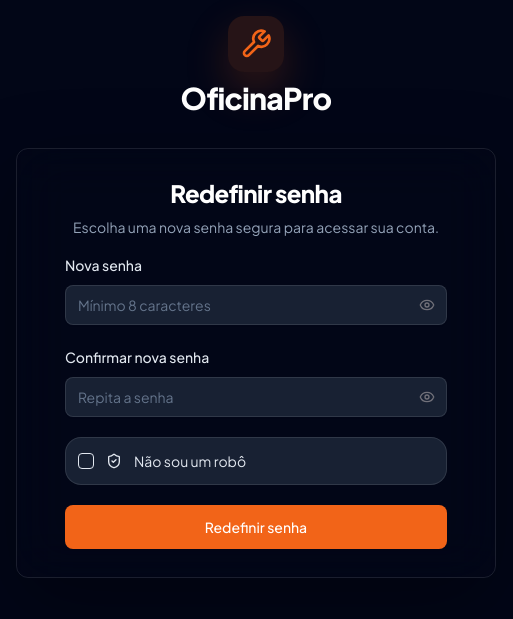
Test case: ResetPasswordPage › valida senha forte antes de enviar redefinicao
Type "fraca" into the password field labelled "Nova senha" at [256, 305], box [65, 285, 447, 325]
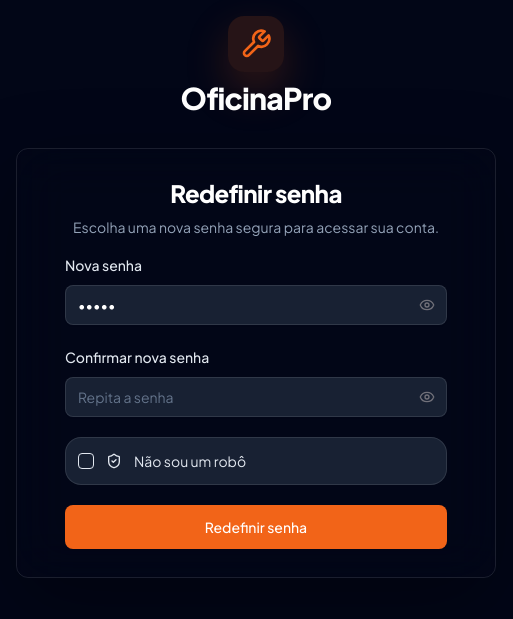
Type "fraca" into the password field labelled "Confirmar nova senha" at [256, 397], box [65, 377, 447, 417]
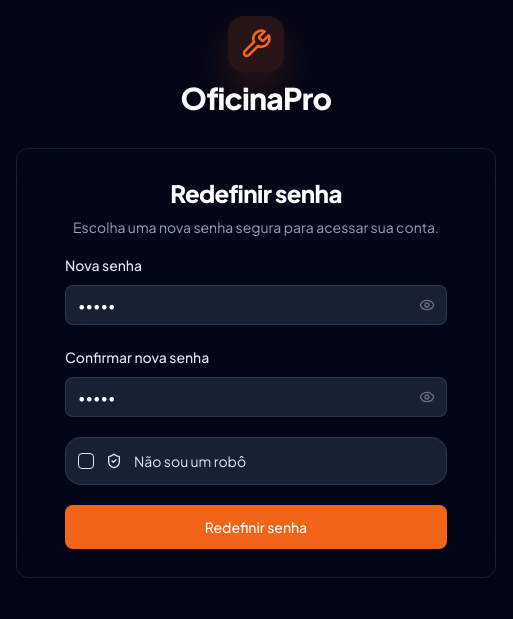
Click the checkbox labelled "Não sou um robô" at [190, 461], box [65, 437, 447, 485]
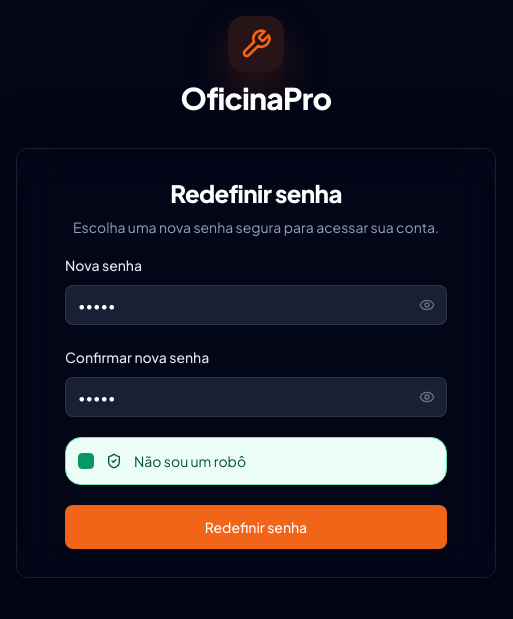
Click the button "Redefinir senha" at [256, 527], box [65, 505, 447, 549]
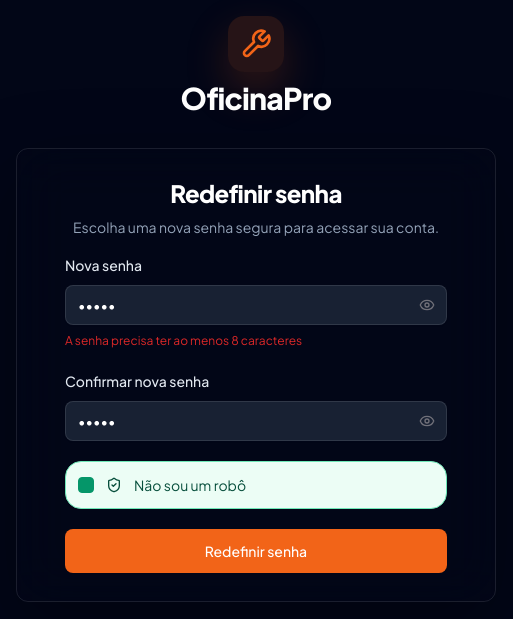
Result: the text "A senha precisa ter ao menos 8 caracteres" is shown at [65, 333, 302, 348]
